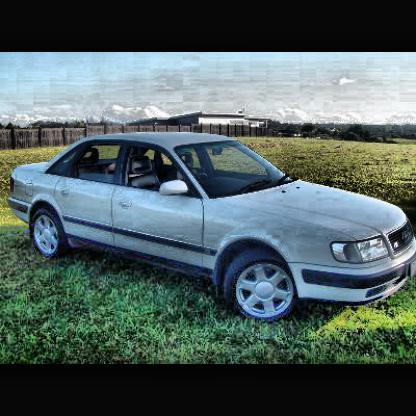Audi 100 Sedan 1994: (8, 132, 416, 327)
